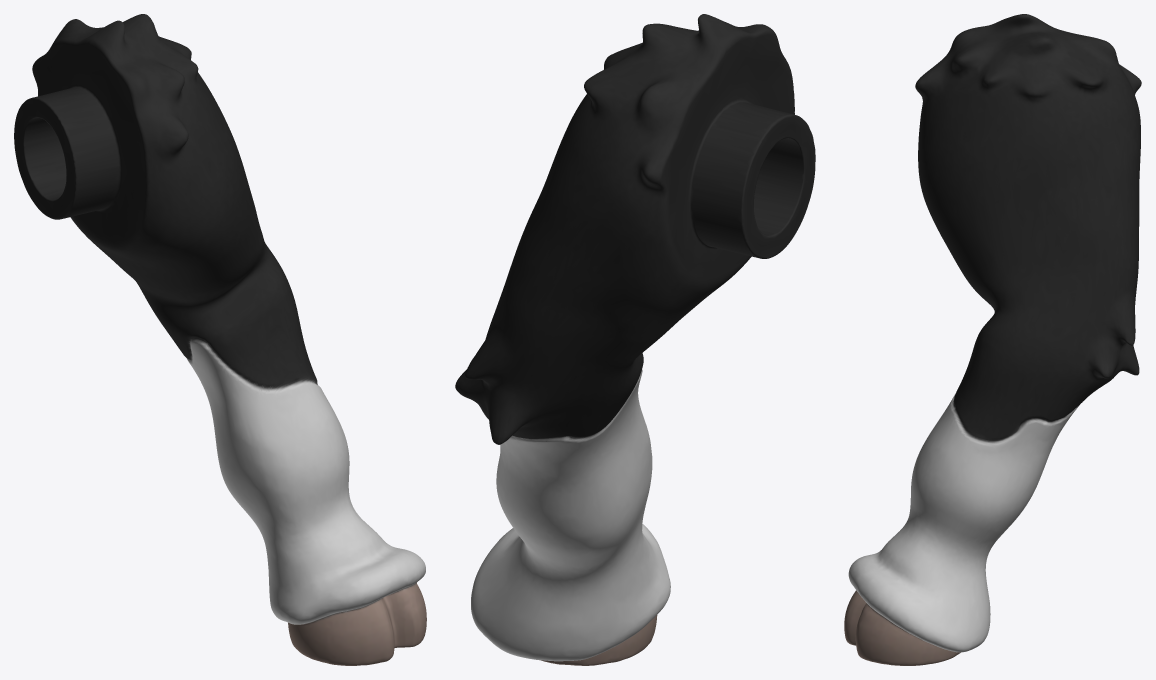
Rendered from Bras_Vache_lft.glb.
The picture shows the model from 3 angles, left to right: view 1: azimuth 30°, elevation 25°; view 2: azimuth 150°, elevation 25°; view 3: azimuth 270°, elevation 25°; orthographic projection. The views are drawn at different scales.
Visible parts, largest first — view 1: Bras_Vache_lft; view 2: Bras_Vache_lft; view 3: Bras_Vache_lft.
Boxes of the visible parts, x1,y1,x2,y2 form: Bras_Vache_lft: (14,14,426,665); Bras_Vache_lft: (455,14,815,665); Bras_Vache_lft: (844,14,1141,665).
Bounding box in the file's own units: 2.47 × 4.65 × 2.25.
